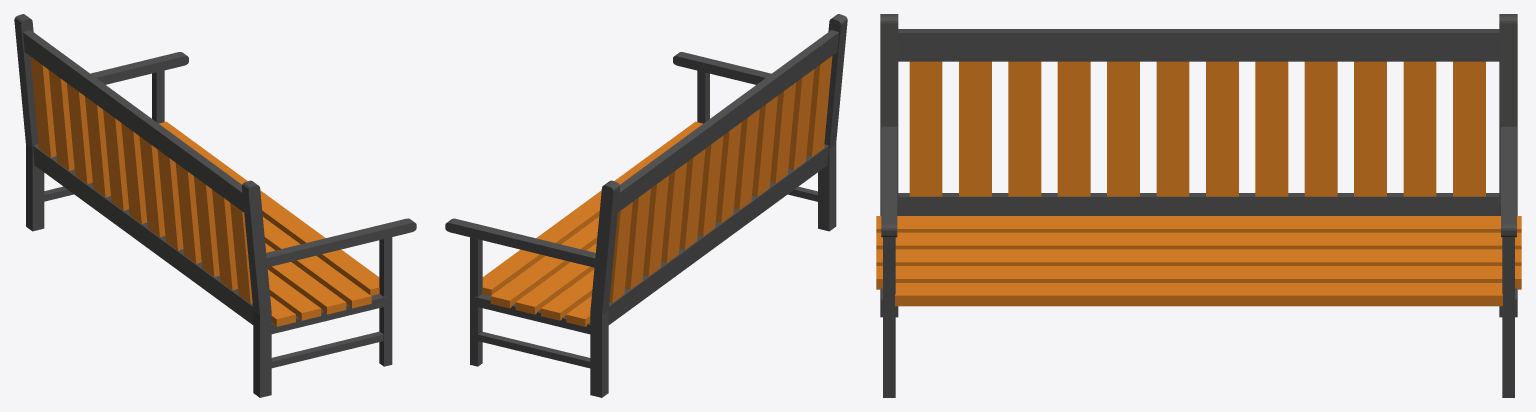
File: bench.fbx
3 renders of one model, left to right at view 1: azimuth 30°, elevation 25°; view 2: azimuth 150°, elevation 25°; view 3: azimuth 270°, elevation 25°, orthographic. The views are drawn at different scales.
Parts seen in each view (by area): view 1: Cube.005, Cube.006, Cube.008, Cube.010, Cube.001, Cube.004, Cube.003, Cube.013, Cube, Cube.014, Cube.011, Cube.007 (+1 smaller); view 2: Cube.005, Cube.006, Cube.008, Cube.010, Cube.003, Cube.004, Cube.001, Cube.014, Cube.002, Cube.013, Cube.012, Cube.009 (+1 smaller); view 3: Cube.005, Cube.008, Cube.006, Cube.004, Cube.010, Cube.001, Cube.003, Cube, Cube.002, Cube.013, Cube.014.
Part boxes in pixels (box(x1,y1,x2,y2)): Cube.005: box(30, 57, 252, 303); Cube.006: box(23, 30, 244, 212); Cube.008: box(263, 217, 371, 326); Cube.010: box(33, 144, 253, 324); Cube.001: box(242, 180, 271, 397); Cube.004: box(159, 121, 379, 295); Cube.003: box(14, 14, 44, 231); Cube.013: box(266, 218, 416, 267); Cube: box(379, 237, 392, 366); Cube.014: box(90, 52, 188, 84); Cube.011: box(271, 331, 383, 368); Cube.007: box(271, 294, 386, 334); Cube.005: box(609, 56, 832, 302); Cube.006: box(618, 30, 838, 212); Cube.008: box(490, 217, 599, 326); Cube.010: box(608, 144, 828, 324); Cube.003: box(590, 180, 619, 397); Cube.004: box(482, 121, 702, 295); Cube.001: box(818, 14, 847, 231); Cube.014: box(445, 218, 595, 267); Cube.002: box(470, 237, 482, 366); Cube.013: box(673, 52, 771, 84); Cube.012: box(478, 331, 590, 368); Cube.009: box(474, 294, 590, 334); Cube.005: box(909, 61, 1485, 196); Cube.008: box(876, 216, 1521, 289); Cube.006: box(898, 29, 1499, 61); Cube.004: box(895, 283, 1502, 306); Cube.010: box(898, 193, 1499, 215); Cube.001: box(880, 14, 898, 317); Cube.003: box(1499, 14, 1517, 317); Cube: box(883, 237, 895, 397); Cube.002: box(1502, 237, 1514, 397); Cube.013: box(881, 126, 897, 237); Cube.014: box(1501, 126, 1516, 237).
Size of the model in its own units: 43.72 by 52.9 by 107.
